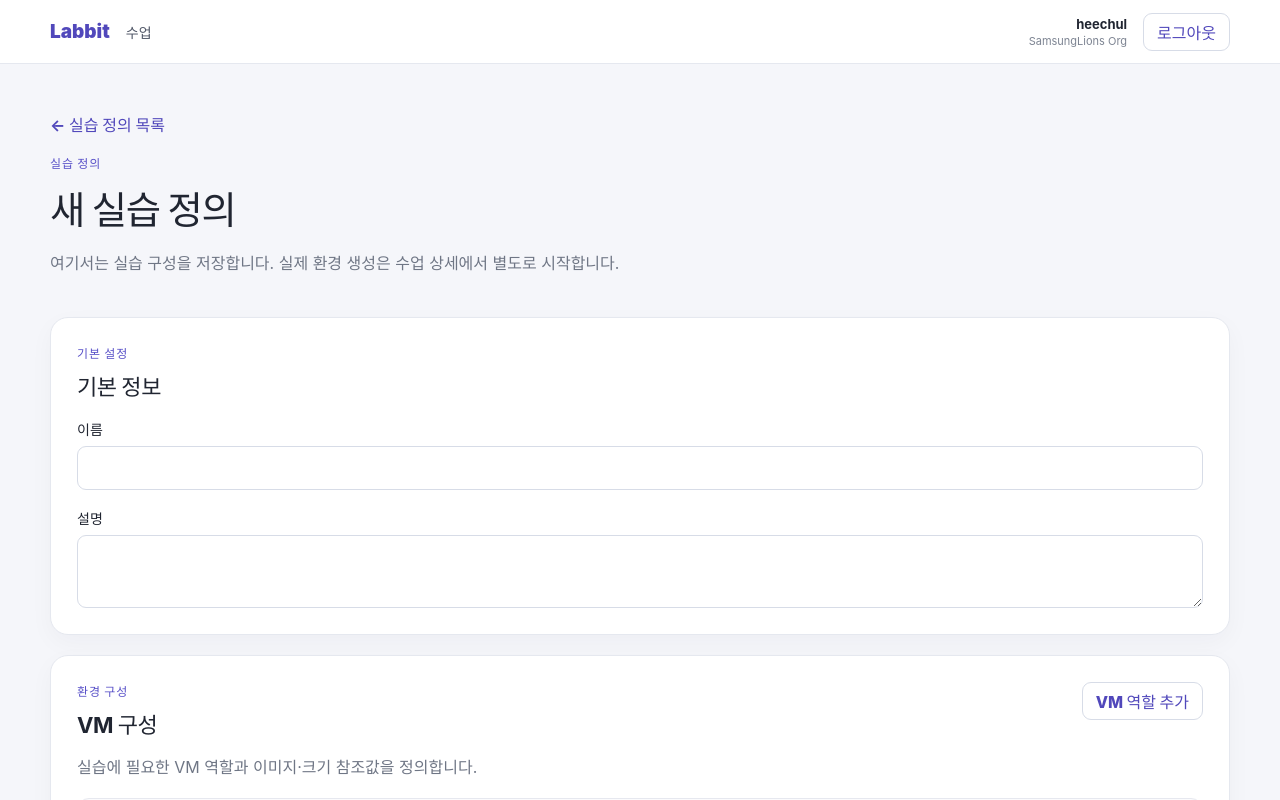
it: Auth·Class·LabSpec routing › 새 LabSpec 생성 403을 수정 권한 오류로 오인하지 않는다
Check: the heading "새 실습 정의" is shown, box [50,187,235,233]
In the field labelled "이름": (640, 468) [77,446,1203,490], type "New Lab"
(page scrolled)
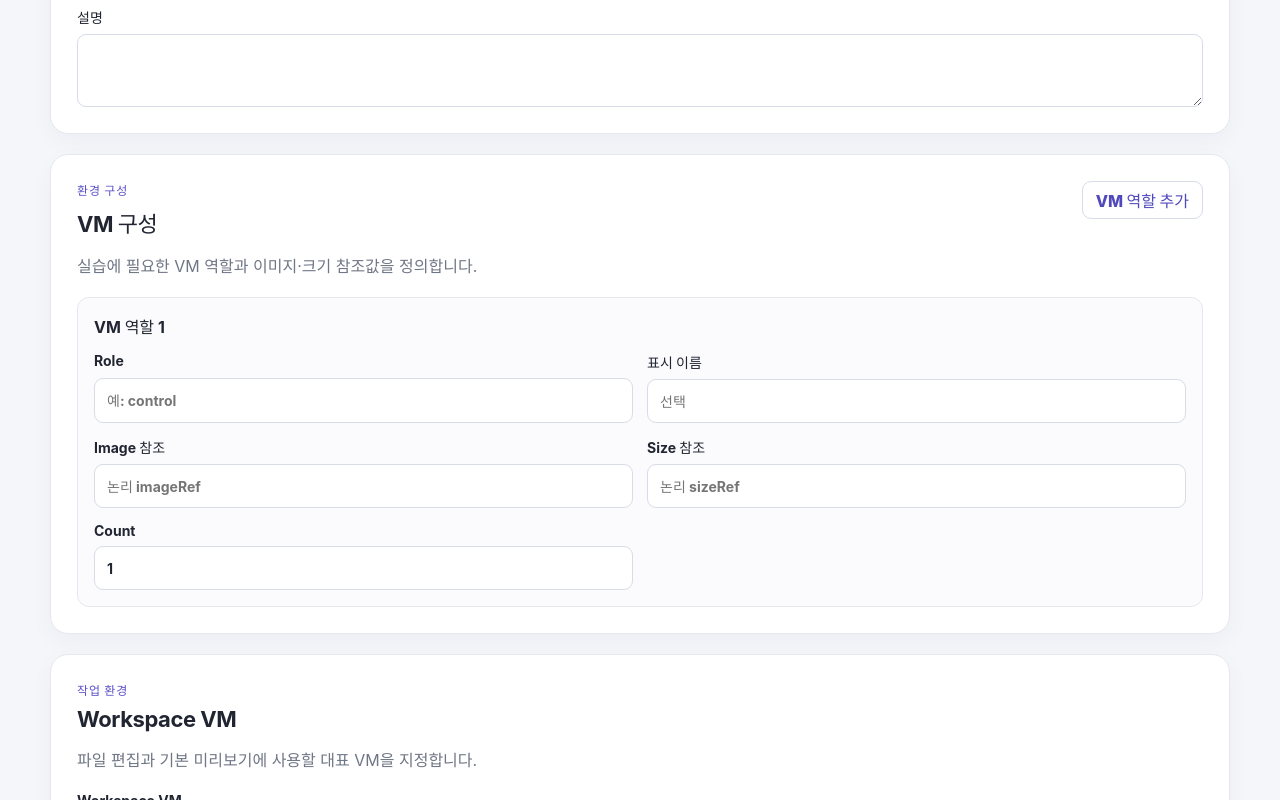
In the field labelled "Role": (364, 400) [94,378,633,423], type "control"
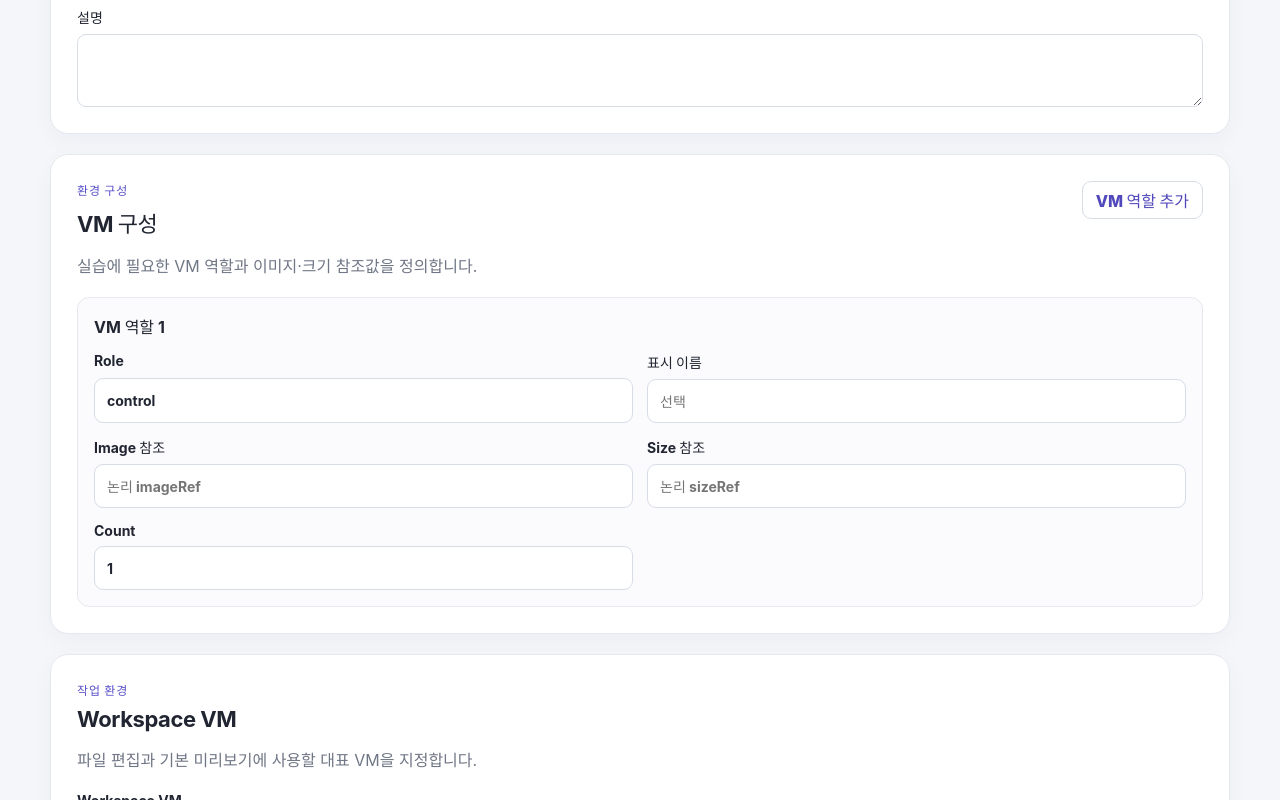
In the field labelled "Image 참조": (364, 486) [94,464,633,508], type "ubuntu-24.04"
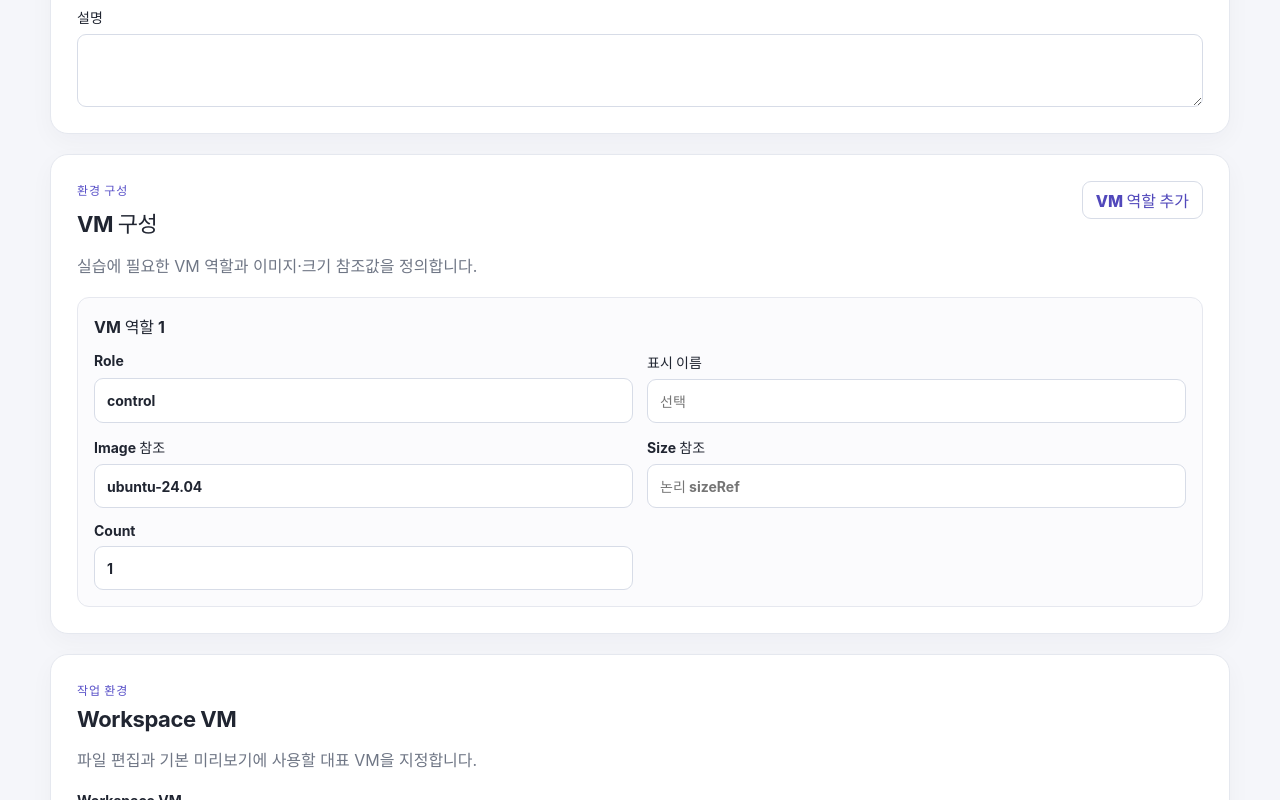
In the field labelled "Size 참조": (916, 486) [647,464,1186,508], type "medium"
(page scrolled)
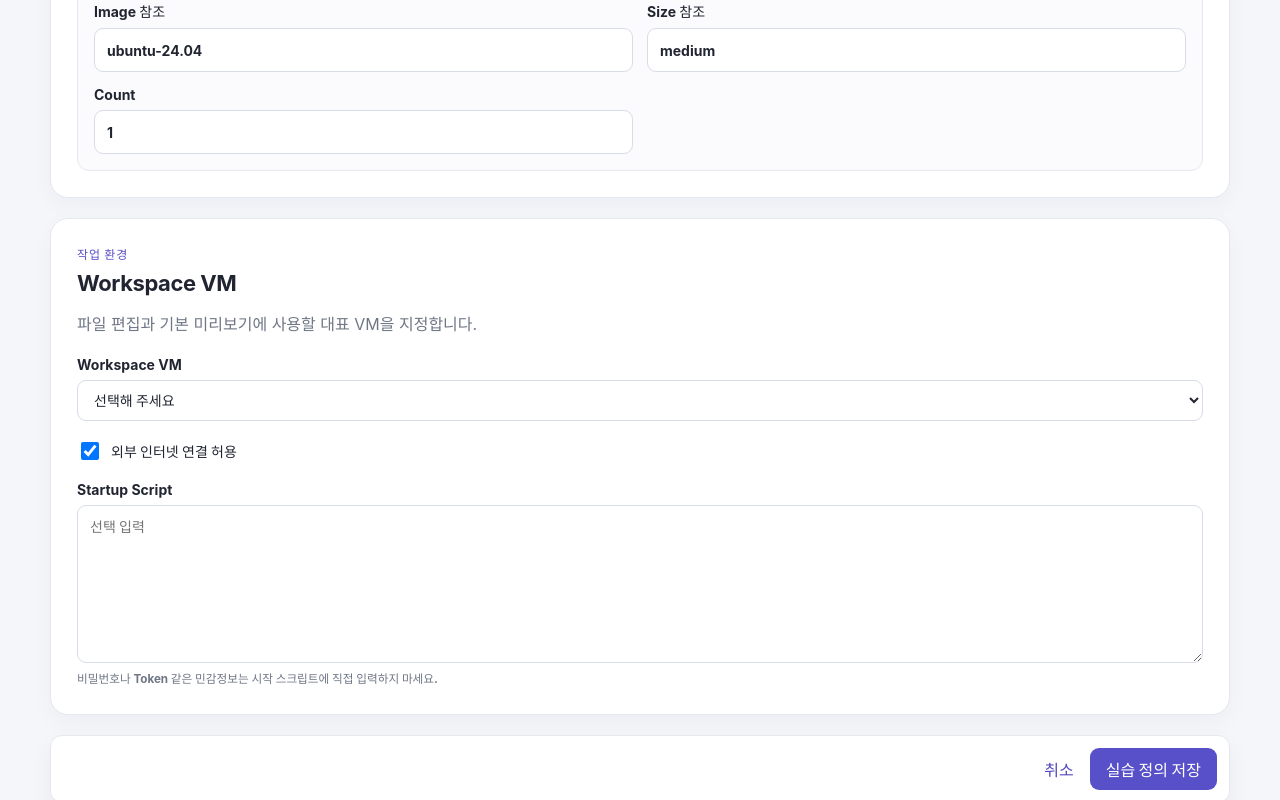
Select "control · #1" in the dropdown labelled "Workspace VM": (640, 400) [77,380,1203,421]
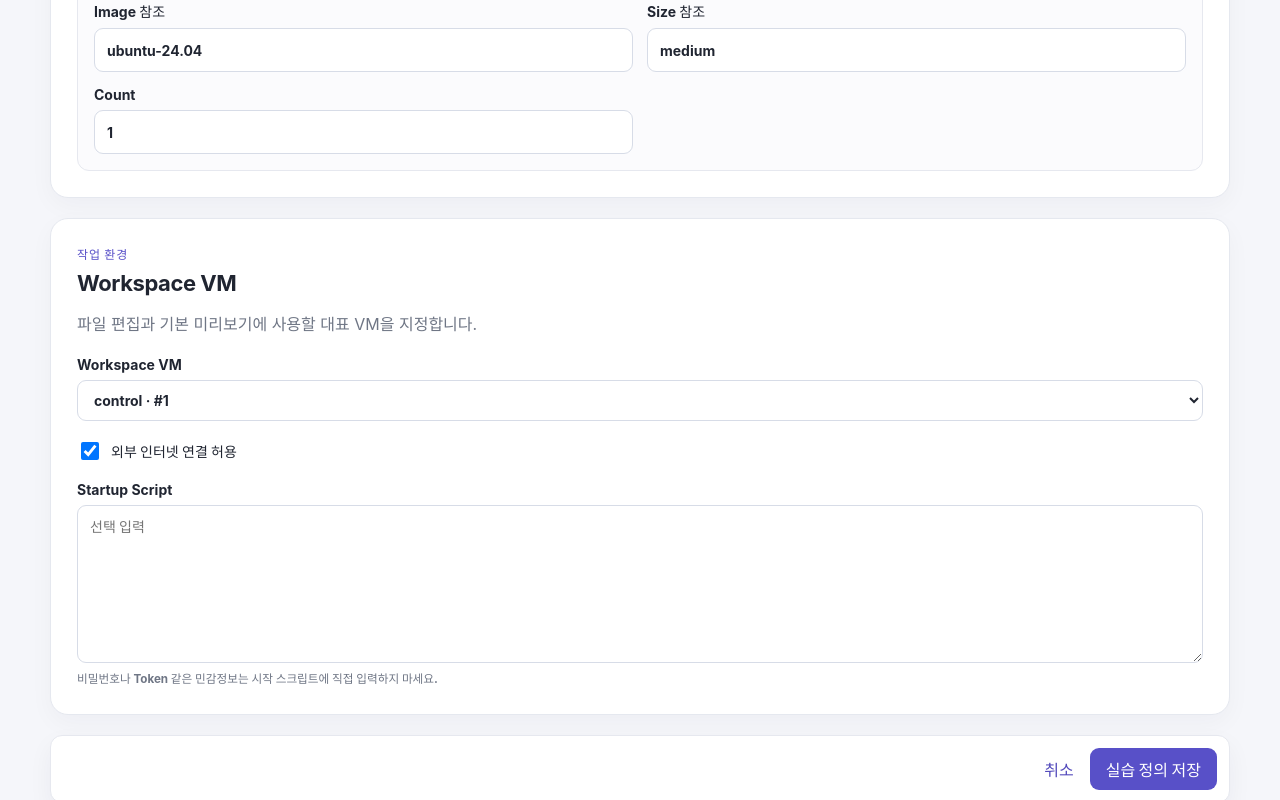
Click the button "실습 정의 저장": click(1153, 770) [1090,748,1217,790]
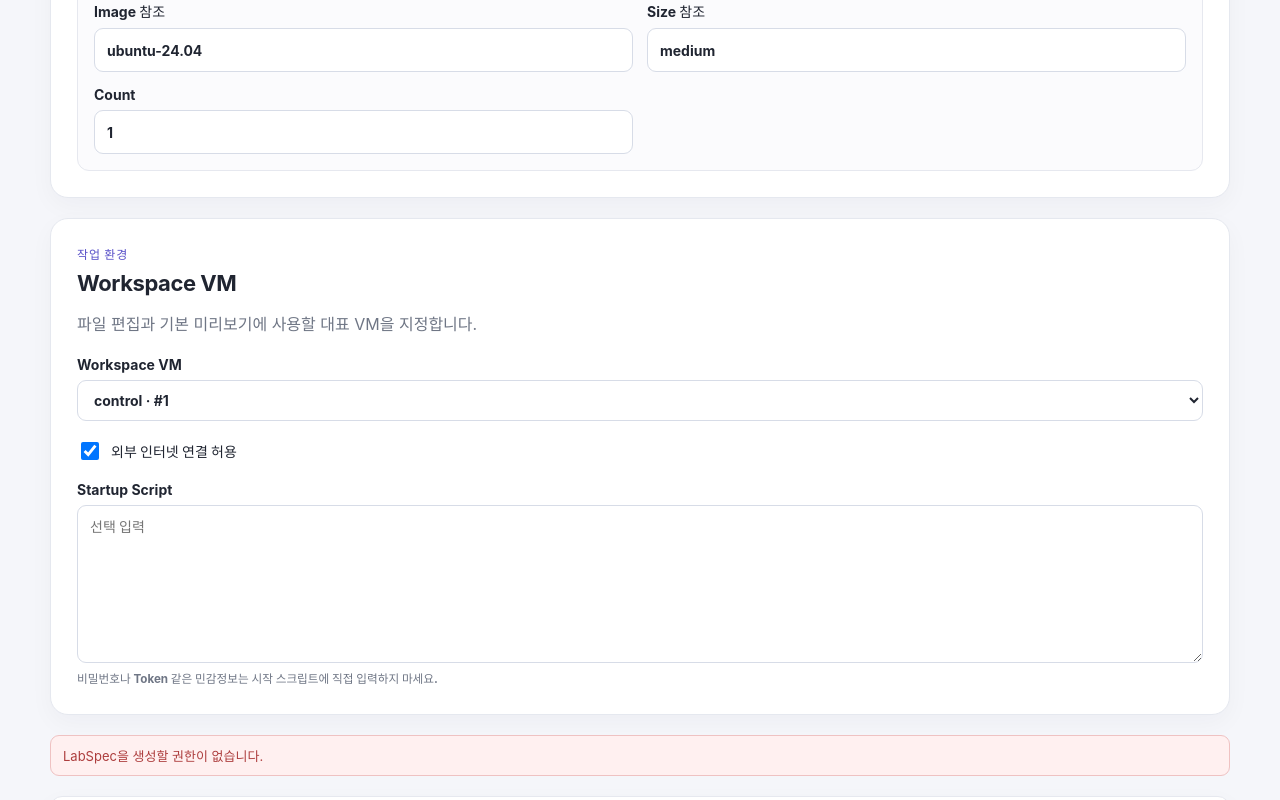
Check: the text "LabSpec을 생성할 권한이 없습니다." is shown, box [50,736,1230,776]
